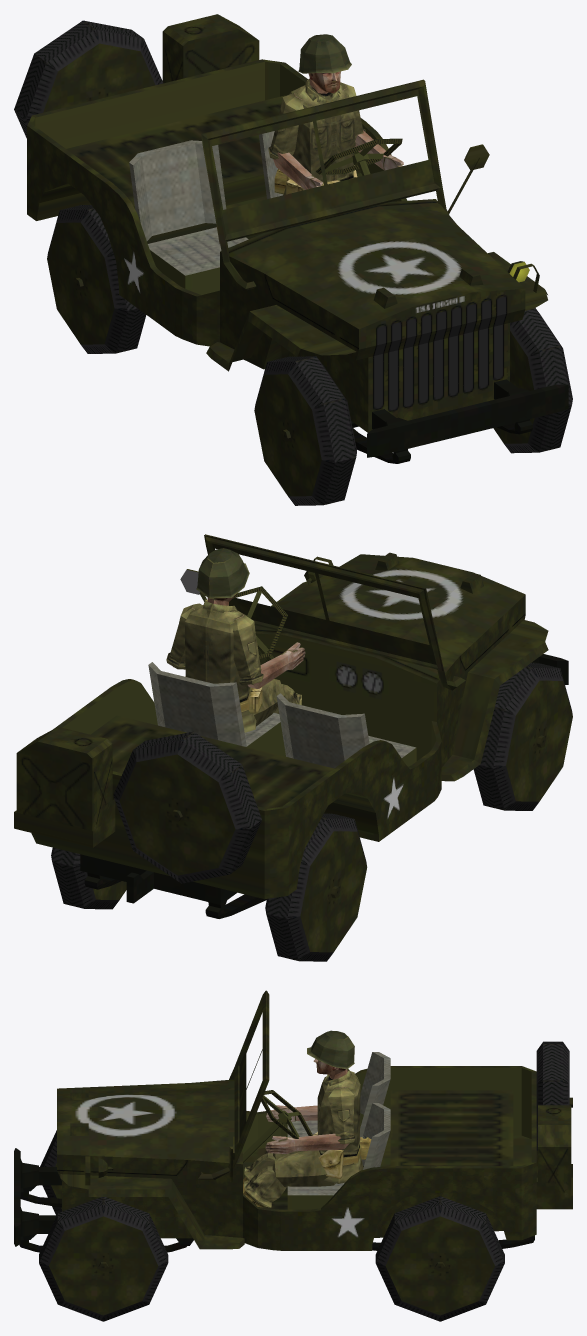
File: us_jeep_s3o.glb
3 renders of one model, top to bottom at view 1: azimuth 30°, elevation 25°; view 2: azimuth 150°, elevation 25°; view 3: azimuth 270°, elevation 25°, orthographic. The views are drawn at different scales.
Visible parts, largest first — view 1: base, wheels1, wheels2, spare, driver; view 2: base, spare, wheels2, driver, wheels1; view 3: base, wheels1, wheels2, driver, spare.
Part boxes in pixels (left/top/right/bottom): base: left=27, top=14, right=568, bottom=463; wheels1: left=254, top=308, right=572, bottom=505; wheels2: left=47, top=205, right=146, bottom=353; spare: left=14, top=20, right=163, bottom=138; driver: left=268, top=34, right=403, bottom=195; base: left=14, top=534, right=568, bottom=918; spare: left=113, top=731, right=261, bottom=883; wheels2: left=51, top=813, right=367, bottom=961; driver: left=166, top=548, right=305, bottom=732; wheels1: left=473, top=663, right=572, bottom=810; base: left=14, top=990, right=572, bottom=1252; wheels1: left=39, top=1130, right=168, bottom=1321; wheels2: left=375, top=1196, right=504, bottom=1321; driver: left=243, top=1030, right=371, bottom=1207; spare: left=536, top=1041, right=572, bottom=1150.
Size of the model in its own units: 1.62 by 1.76 by 3.4.
1 material, 1 textured.
